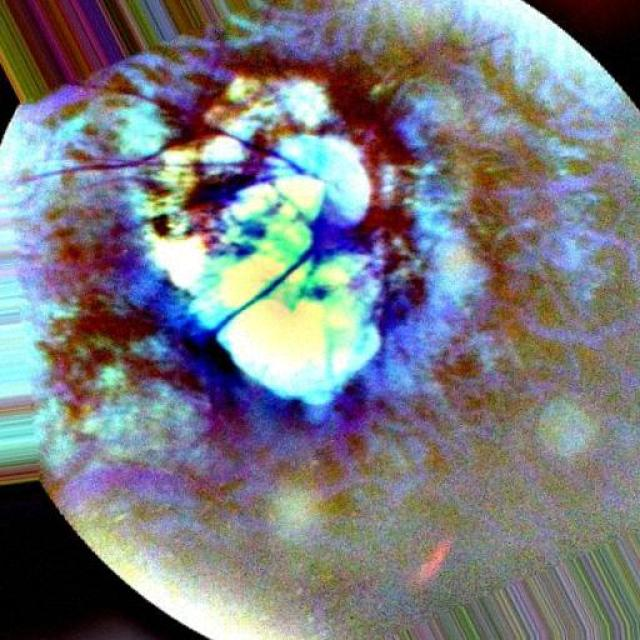Nerves: (206, 200, 368, 335), (30, 148, 162, 179), (201, 161, 269, 198), (264, 149, 306, 174), (230, 134, 264, 159)
Optic Disk: (144, 76, 380, 404)
